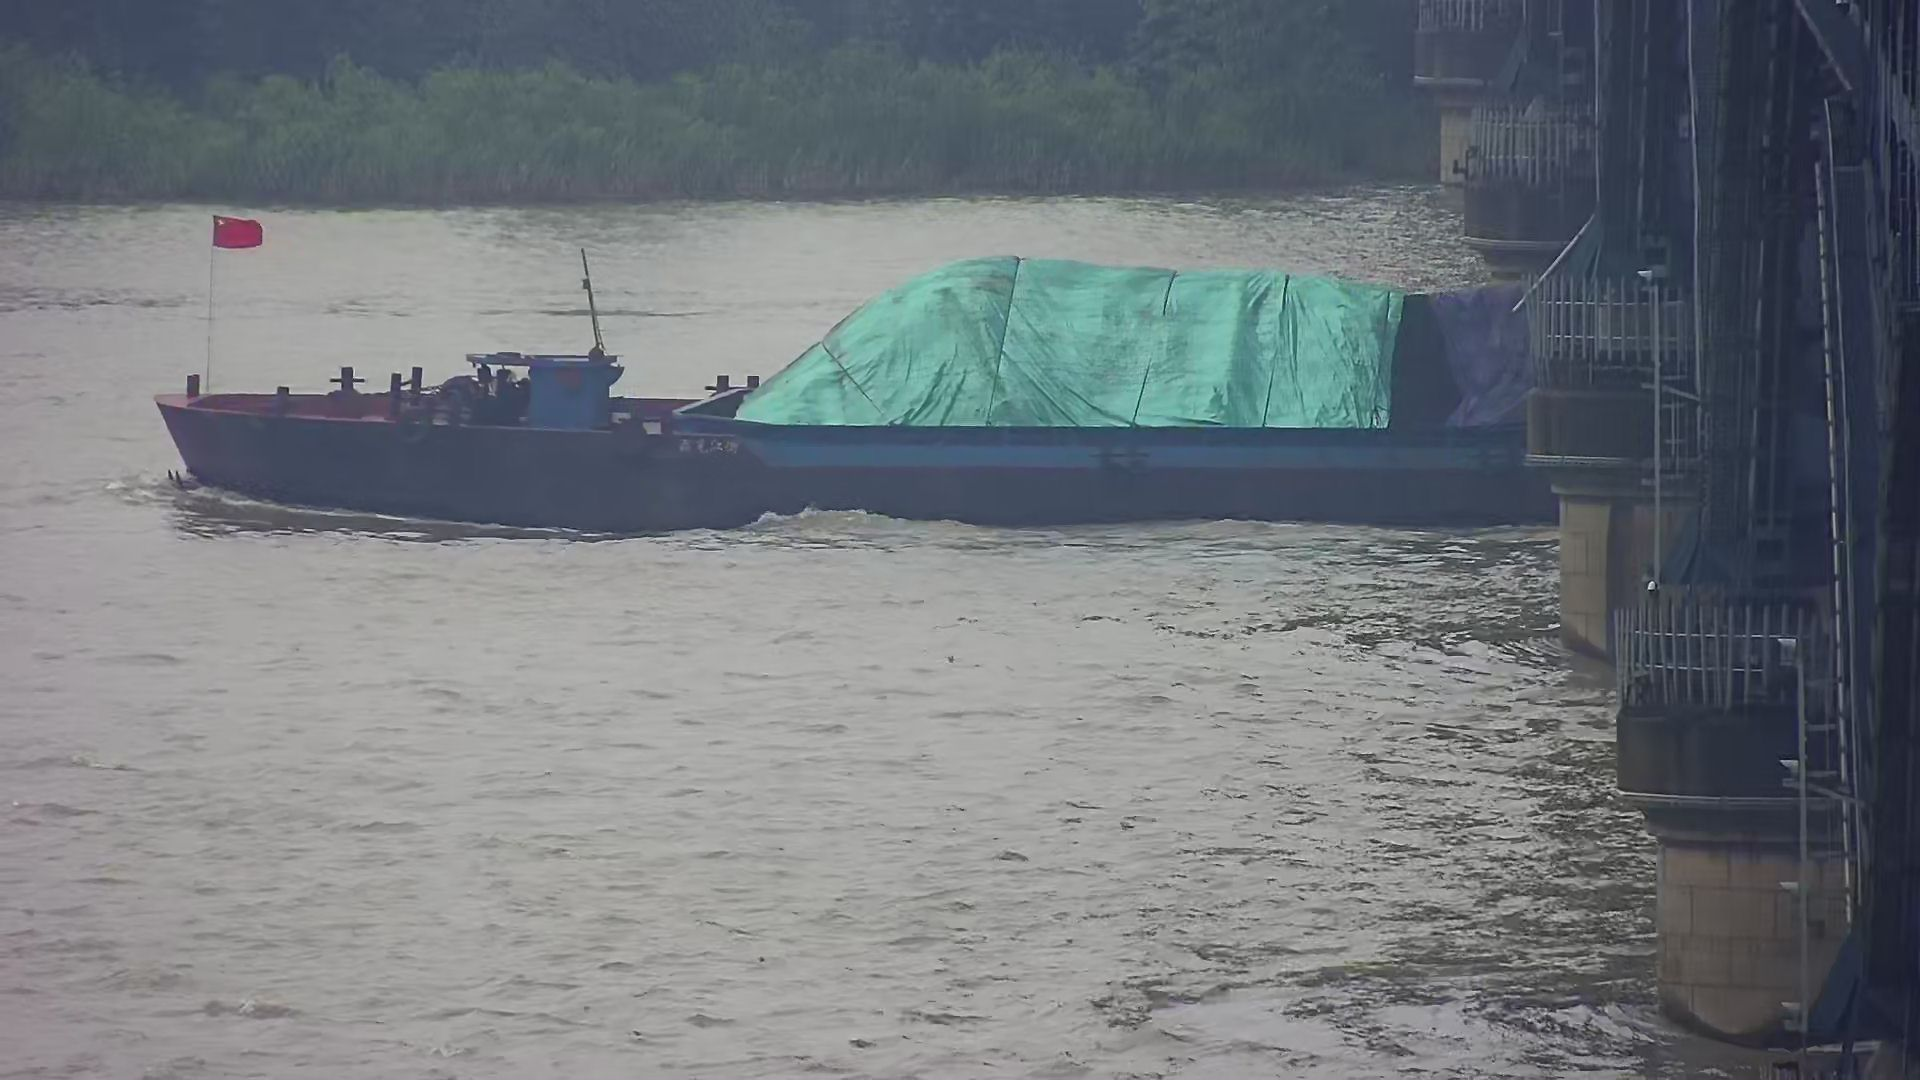bridge: (1408, 1, 1909, 1072)
ship: (146, 193, 1575, 549)
